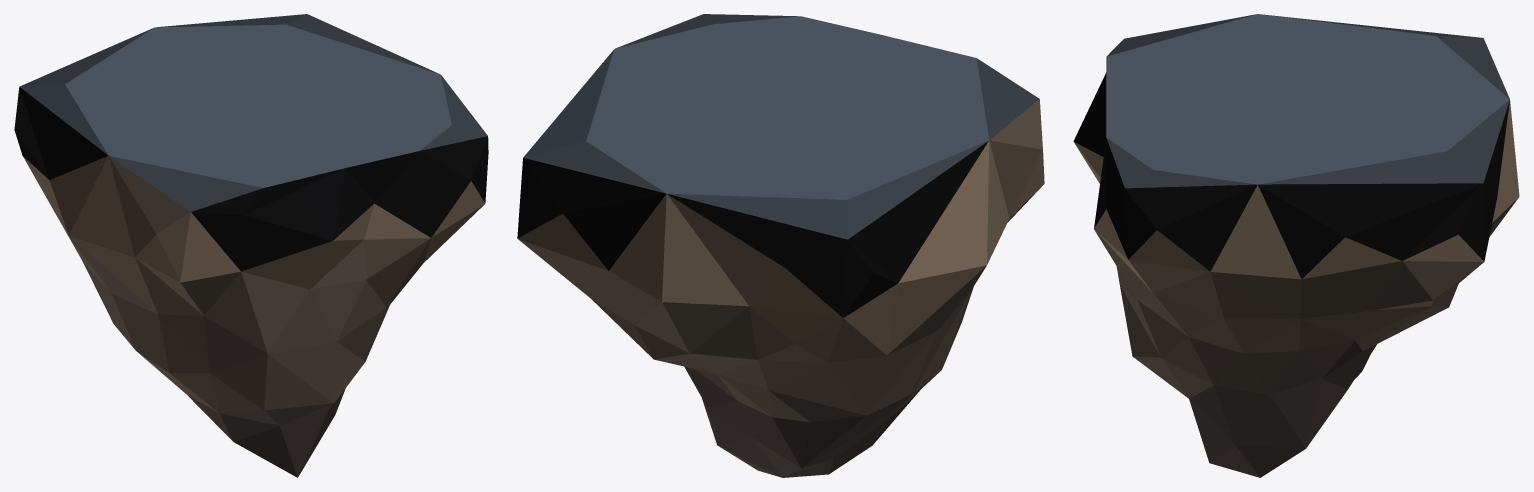
File: Main haunted island.fbx
The picture shows the model from 3 angles, left to right: view 1: azimuth 30°, elevation 25°; view 2: azimuth 150°, elevation 25°; view 3: azimuth 270°, elevation 25°; orthographic projection. The views are drawn at different scales.
Visible parts, largest first — view 1: Cube; view 2: Cube; view 3: Cube.
Part boxes in pixels (x1,y1,x2,y2): Cube: (14,14,488,477); Cube: (517,14,1044,477); Cube: (1073,14,1519,477).
Size of the model in its own units: 5350 by 4974 by 5526.
